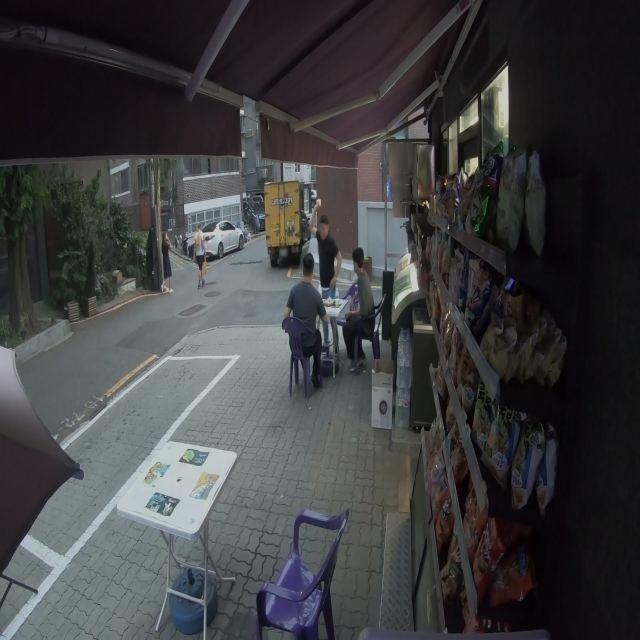non-fight: (301, 215, 354, 381), (282, 254, 330, 401), (340, 246, 377, 372), (190, 231, 208, 288), (160, 230, 170, 294)
